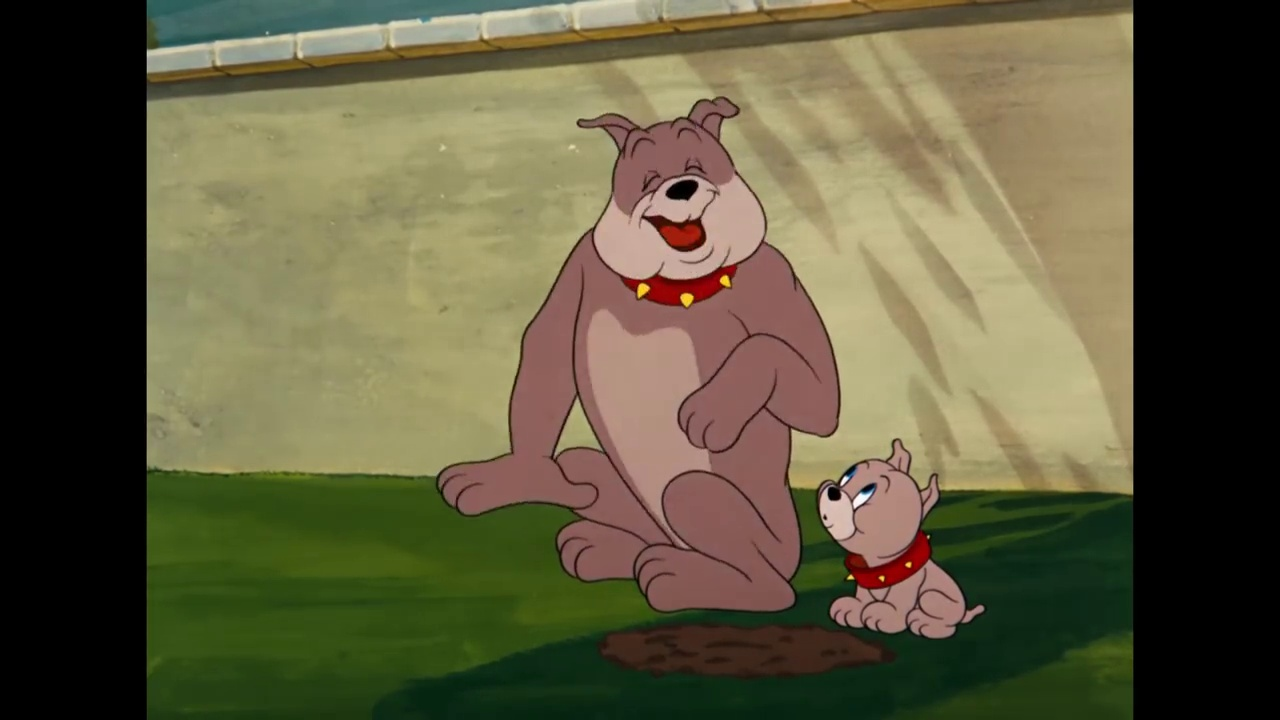spike: (572, 90, 773, 313)
